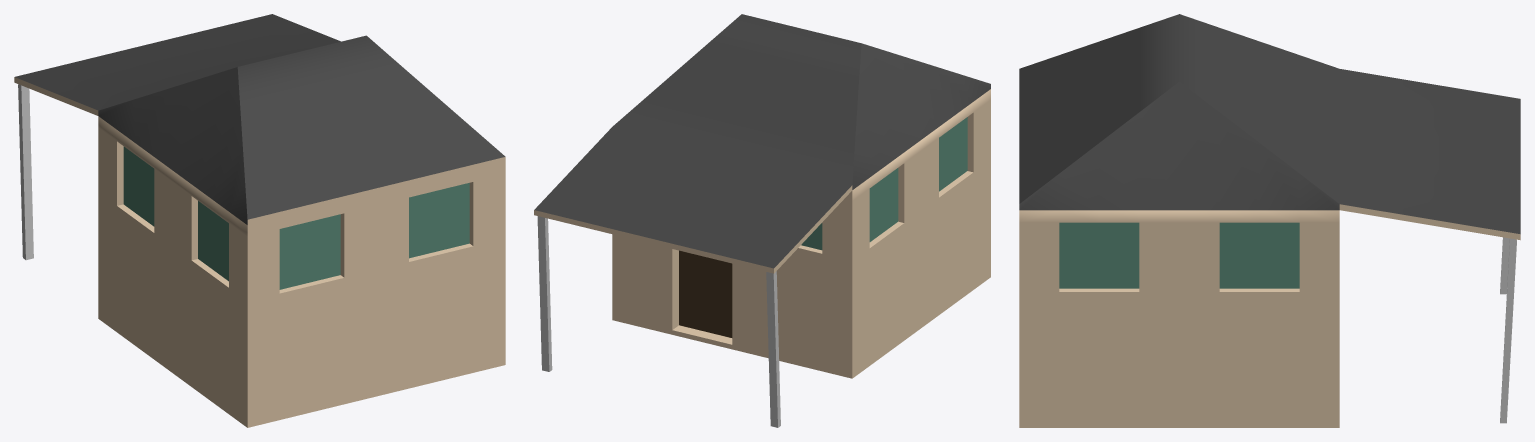
The model's file is House3-1.fbx.
3 views of the same model, side by side, from view 1: azimuth 30°, elevation 25°; view 2: azimuth 150°, elevation 25°; view 3: azimuth 270°, elevation 25° (orthographic). The views are drawn at different scales.
Parts seen in each view (by area): view 1: pCube4.002; view 2: pCube4.002; view 3: pCube4.002.
Boxes of the visible parts, <box> form: pCube4.002: <box>14,14,505,427</box>; pCube4.002: <box>534,14,990,427</box>; pCube4.002: <box>1019,14,1520,427</box>.
Bounding box in the file's own units: 8 × 8.61 × 12.52.
